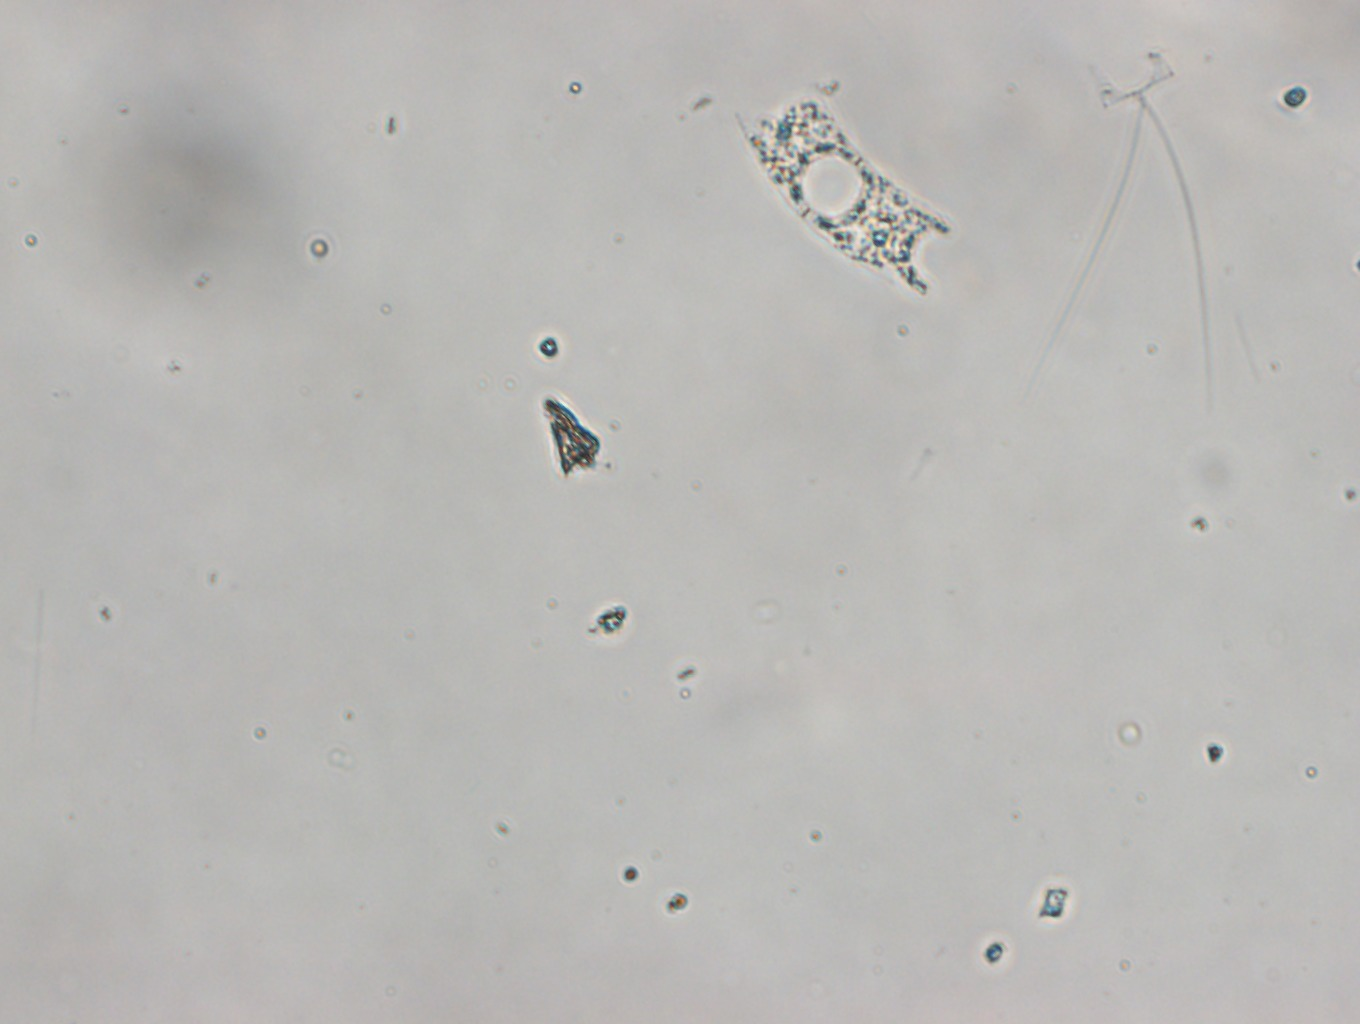eucampia: (728, 72, 962, 298)
